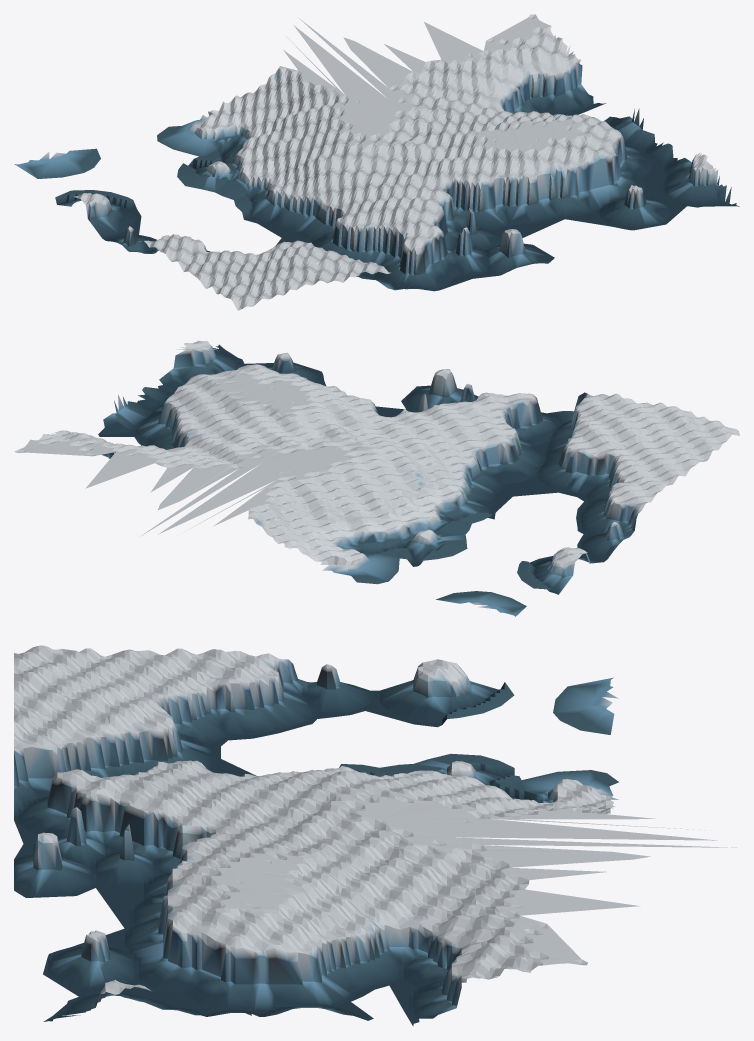
Rendered from frost_tile_x0z1_lod1.glb.
3 views of the same model, one above another, from view 1: azimuth 30°, elevation 25°; view 2: azimuth 150°, elevation 25°; view 3: azimuth 270°, elevation 25° (orthographic). The views are drawn at different scales.
Visible parts, largest first — view 1: geometry_0; view 2: geometry_0; view 3: geometry_0.
Boxes of the visible parts, box(x1,y1,x2,y2) form: geometry_0: box(14, 14, 739, 310); geometry_0: box(14, 340, 739, 616); geometry_0: box(14, 645, 736, 1026).
Bounding box in the file's own units: 991 × 78.38 × 905.
